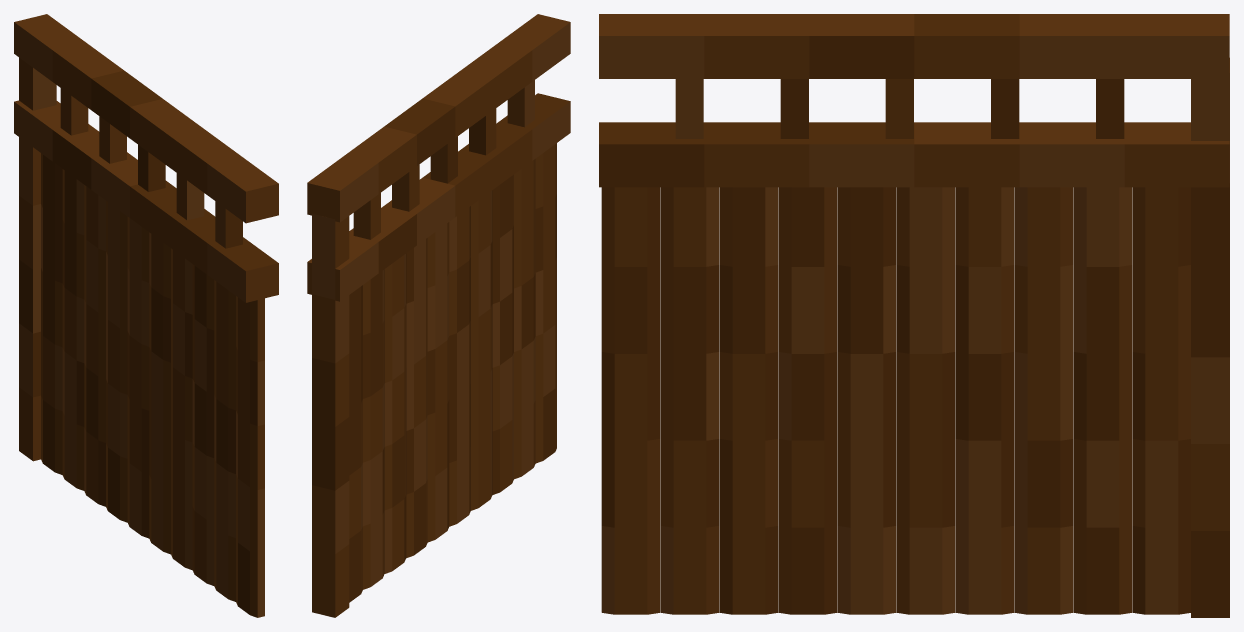
The model's file is castle_town_fence.fbx.
3 renders of one model, left to right at view 1: azimuth 30°, elevation 25°; view 2: azimuth 150°, elevation 25°; view 3: azimuth 270°, elevation 25°, orthographic. The views are drawn at different scales.
Visible parts, largest first — view 1: Cube.004; view 2: Cube.004; view 3: Cube.004.
Boxes of the visible parts, x1,y1,x2,y2 form: Cube.004: [14, 14, 278, 617]; Cube.004: [307, 14, 570, 617]; Cube.004: [599, 14, 1229, 617].
Size of the model in its own units: 2154 by 2206 by 177.
